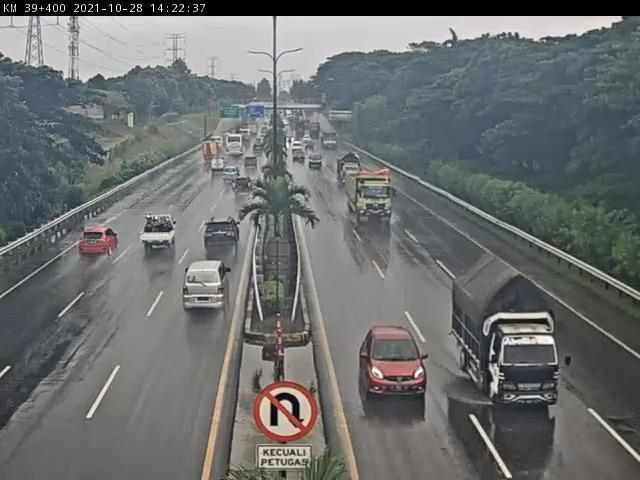car: (358, 325, 430, 402), (182, 259, 233, 315), (133, 215, 178, 257), (204, 217, 243, 253), (77, 228, 121, 259), (233, 175, 254, 192), (222, 167, 241, 184)
truck: (451, 251, 572, 409), (347, 168, 396, 222)
